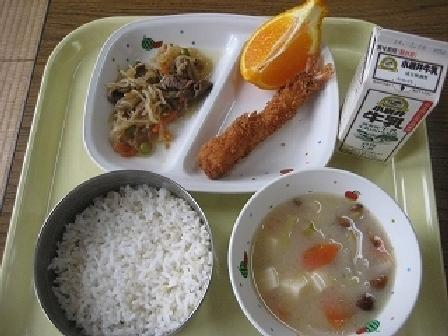Citrus: (232, 2, 339, 91)
Milk: (332, 31, 447, 157)
Rice: (39, 172, 217, 331)
Soups: (236, 176, 417, 335)
cooked food based on meat: (107, 33, 206, 156)
seafood: (201, 75, 348, 178)
